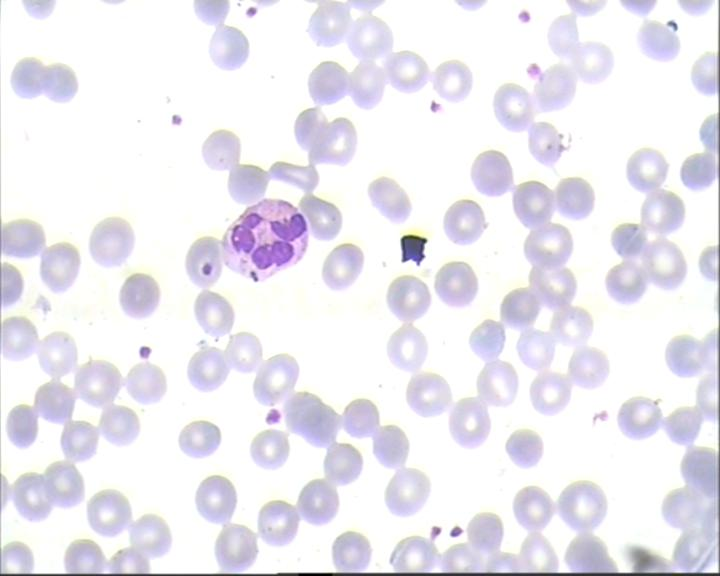neut: (219, 197, 311, 286)
